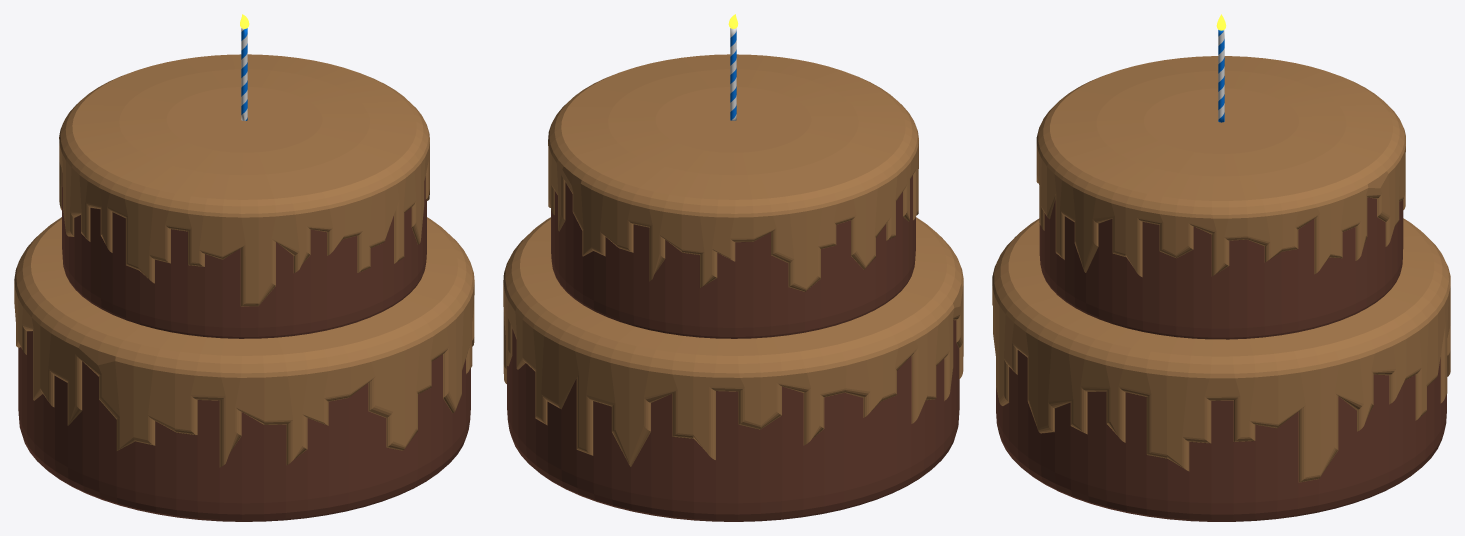
File: dbc-cake.glb
3 renders of one model, left to right at view 1: azimuth 30°, elevation 25°; view 2: azimuth 150°, elevation 25°; view 3: azimuth 270°, elevation 25°, orthographic.
Visible parts, largest first — view 1: Cylinder.001, Cylinder.002, Cylinder; view 2: Cylinder.001, Cylinder.002, Cylinder; view 3: Cylinder.001, Cylinder.002, Cylinder.
Boxes of the visible parts, <box> form: Cylinder.001: <box>59,54,429,338</box>; Cylinder.002: <box>14,217,474,521</box>; Cylinder: <box>241,28,247,120</box>; Cylinder.001: <box>548,54,918,338</box>; Cylinder.002: <box>503,217,963,521</box>; Cylinder: <box>730,28,736,120</box>; Cylinder.001: <box>1036,56,1405,339</box>; Cylinder.002: <box>992,218,1450,521</box>; Cylinder: <box>1218,30,1224,122</box>.
Bounding box in the file's own units: 2.01 × 2 × 2.01.
